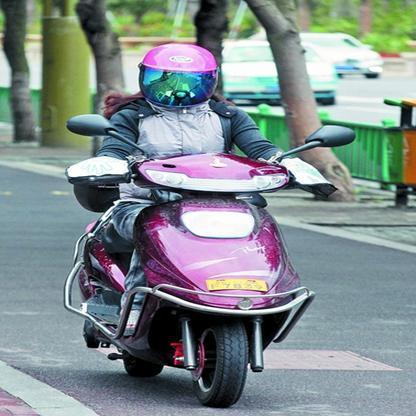target: (64, 40, 356, 410)
